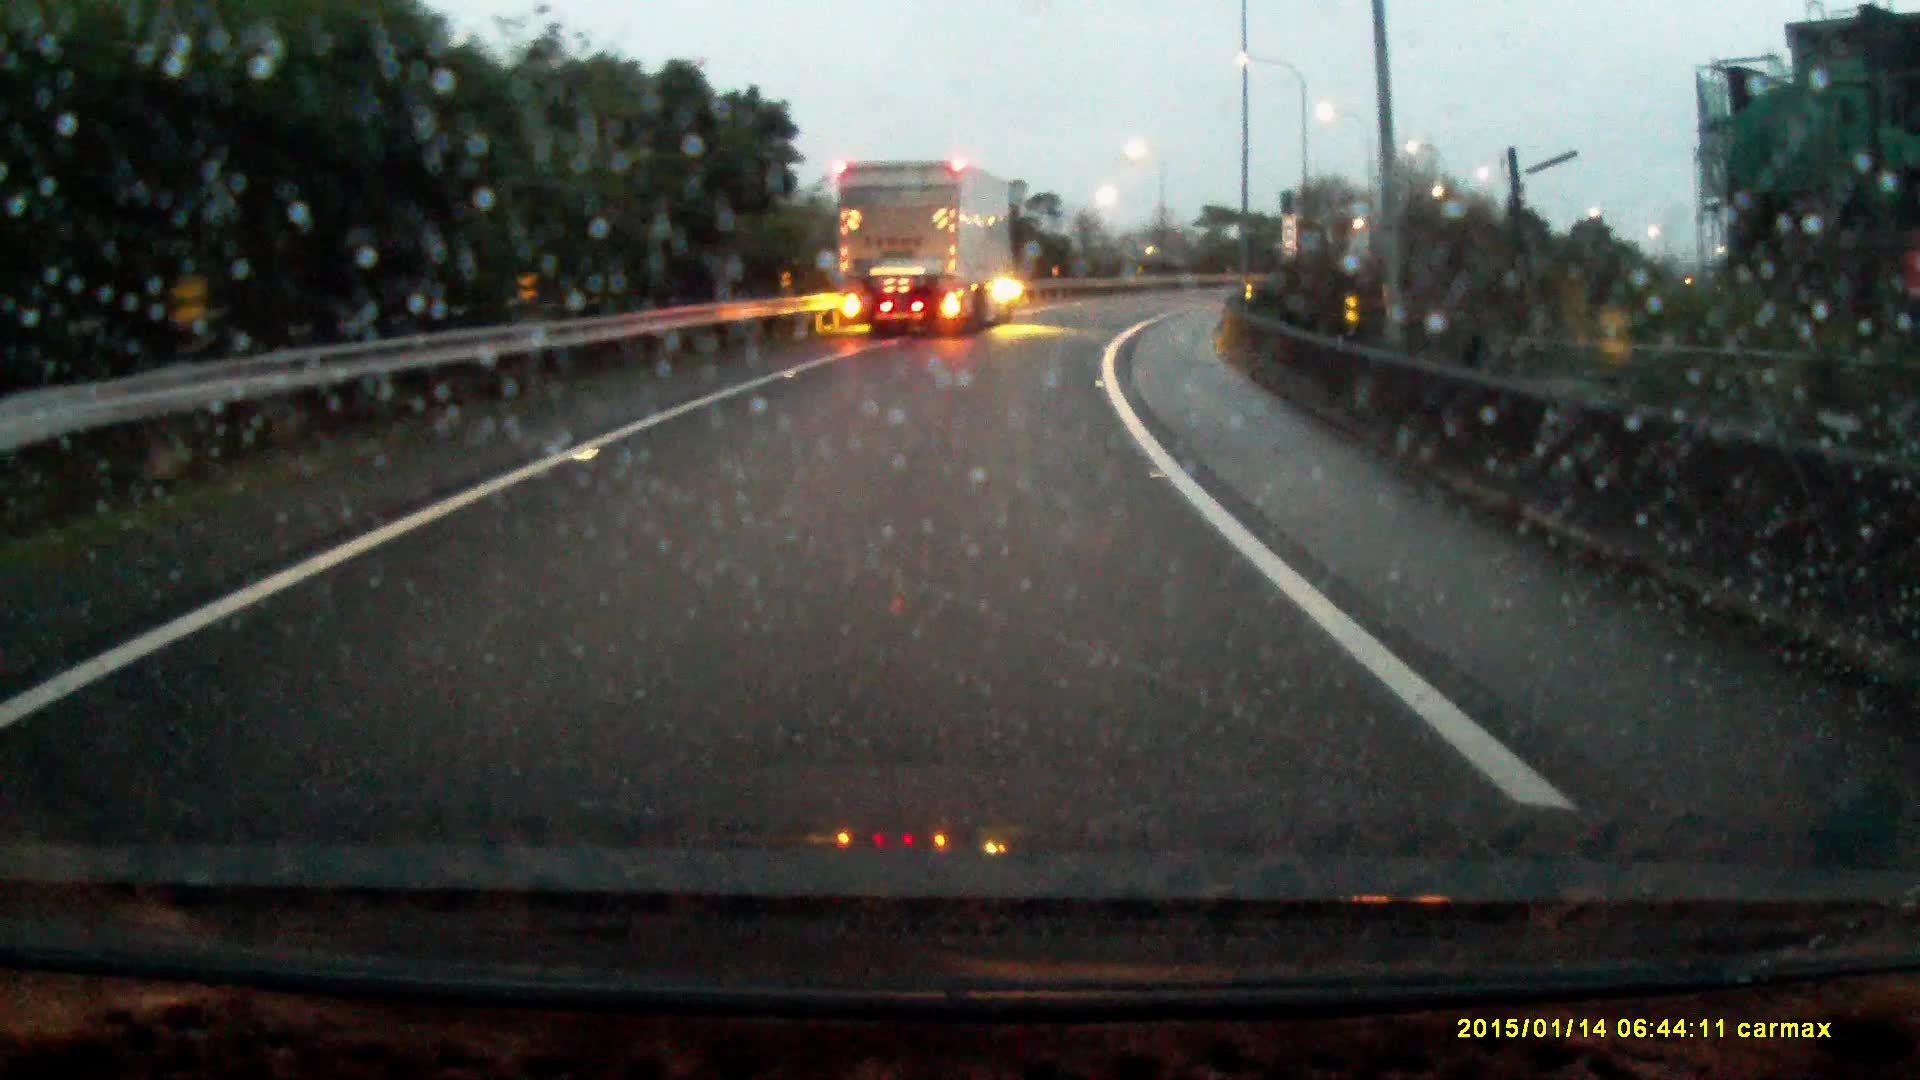vehicle: (844, 160, 1019, 336)
